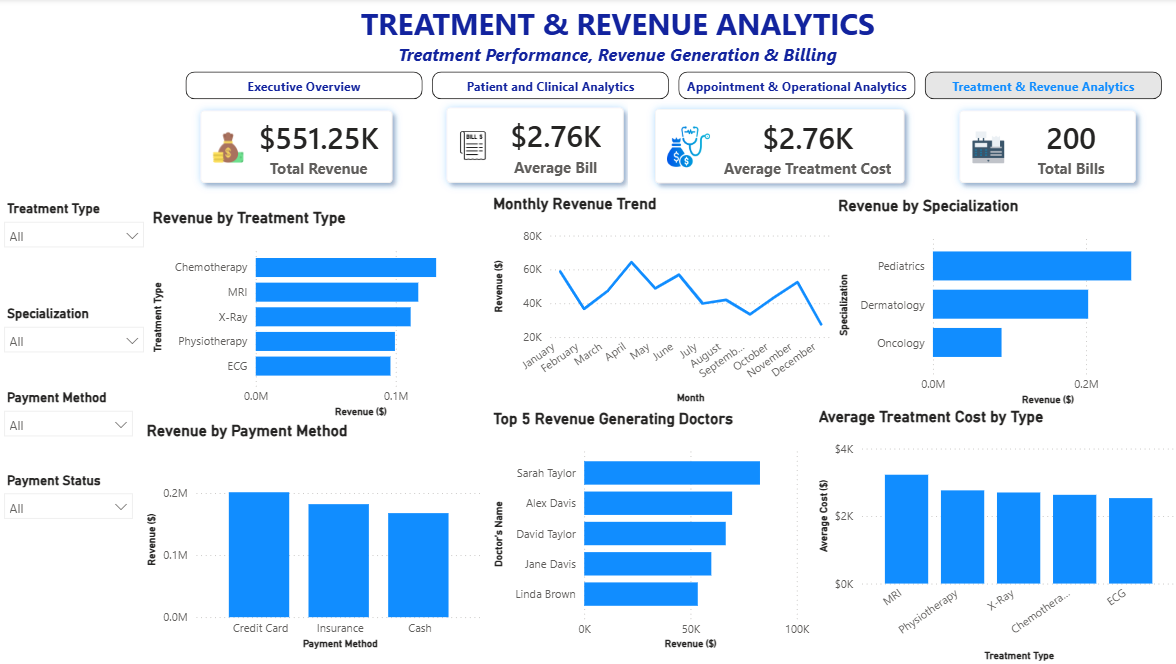

The page's visual inventory and layout, read from the dashboard file:
{"tool":"powerbi","page":{"name":"Treatment & Revenue Analytics","canvas":[1280,720],"ordinal":3},"visuals":[{"type":"textbox","box":[64.7,0,1214.7,80.1],"z":0},{"type":"cardVisual","fields":{"Data":["Executive Dashboard.Total Revenue"]},"box":[192.5,92,265.8,136.3],"z":1000},{"type":"cardVisual","fields":{"Data":["Executive Dashboard.Average Bill"]},"box":[458.9,88.7,249.1,139.9],"z":2000},{"type":"cardVisual","fields":{"Data":["Executive Dashboard.Average Treatment Cost"]},"box":[684.1,90.4,327.5,138.2],"z":3000},{"type":"cardVisual","fields":{"Data":["Executive Dashboard.Total Bills"]},"box":[1012,92,248.7,136.3],"z":4000},{"type":"clusteredBarChart","title":"Revenue by Treatment Type","fields":{"Category":["Executive Dashboard.treatment_type"],"Y":["Sum(Executive Dashboard.amount)"]},"box":[165.3,226.6,361.7,230.3],"z":5000},{"type":"lineChart","title":"Monthly Revenue Trend","fields":{"Category":["Executive Dashboard.Bill_Month"],"Y":["Sum(Executive Dashboard.amount)"]},"box":[532.2,211.5,374,230],"z":6000},{"type":"clusteredBarChart","title":"Revenue by Specialization","fields":{"Category":["Executive Dashboard.specialization"],"Y":["Sum(Executive Dashboard.amount)"]},"box":[905.8,213.2,374,230],"z":7000},{"type":"clusteredColumnChart","title":"Revenue by Payment Method","fields":{"Category":["Executive Dashboard.payment_method"],"Y":["Sum(Executive Dashboard.amount)"]},"box":[158.7,457.2,373.6,250.8],"z":8000},{"type":"clusteredBarChart","title":"Top 5 Revenue Generating Doctors","fields":{"Category":["Executive Dashboard.DoctorName"],"Y":["Sum(Executive Dashboard.amount)"]},"box":[532.2,443.5,351.4,264.4],"z":9000},{"type":"clusteredColumnChart","title":"Average Treatment Cost by Type","fields":{"Category":["Executive Dashboard.treatment_type"],"Y":["Executive Dashboard.Average Treatment Cost"]},"box":[883.7,441.8,395.8,278.1],"z":10000},{"type":"slicer","fields":{"Values":["Executive Dashboard.treatment_type"]},"box":[0,213.2,170.6,83.6],"z":11000},{"type":"slicer","fields":{"Values":["Executive Dashboard.specialization"]},"box":[0,327.5,170.6,73.4],"z":12000},{"type":"slicer","fields":{"Values":["Executive Dashboard.payment_method"]},"box":[0,418,158.7,80.2],"z":13000},{"type":"slicer","fields":{"Values":["Executive Dashboard.payment_status"]},"box":[0,506.7,158.7,76.8],"z":14000},{"type":"pageNavigator","box":[205.6,79.3,1056.3,30.7],"z":14001}]}

Visuals, with their boxes in screenshot pixels (x1, y1, x2, y2), scaled from the page's 1280x720 canvas onto the 1176x664 screenshot:
textbox: [59,0,1175,74]
cardVisual - Executive Dashboard.Total Revenue: [177,85,421,211]
cardVisual - Executive Dashboard.Average Bill: [422,82,650,211]
cardVisual - Executive Dashboard.Average Treatment Cost: [629,83,929,211]
cardVisual - Executive Dashboard.Total Bills: [930,85,1158,211]
"Revenue by Treatment Type" clusteredBarChart: [152,209,484,421]
"Monthly Revenue Trend" lineChart: [489,195,833,407]
"Revenue by Specialization" clusteredBarChart: [832,197,1175,409]
"Revenue by Payment Method" clusteredColumnChart: [146,422,489,653]
"Top 5 Revenue Generating Doctors" clusteredBarChart: [489,409,812,653]
"Average Treatment Cost by Type" clusteredColumnChart: [812,407,1175,663]
slicer - Executive Dashboard.treatment_type: [0,197,157,274]
slicer - Executive Dashboard.specialization: [0,302,157,370]
slicer - Executive Dashboard.payment_method: [0,385,146,459]
slicer - Executive Dashboard.payment_status: [0,467,146,538]
pageNavigator: [189,73,1159,101]
